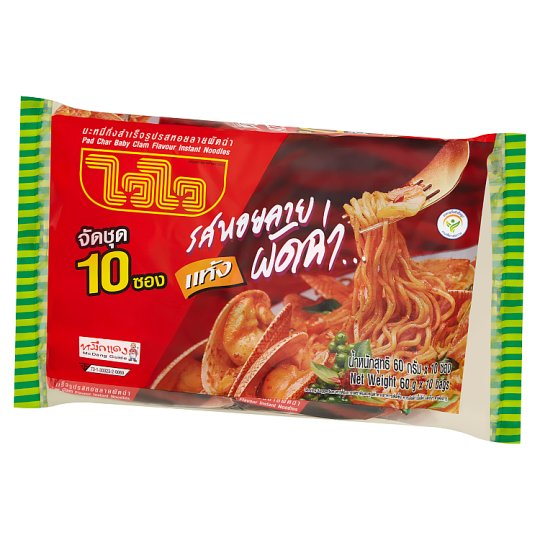Snack: (8, 86, 540, 449)
